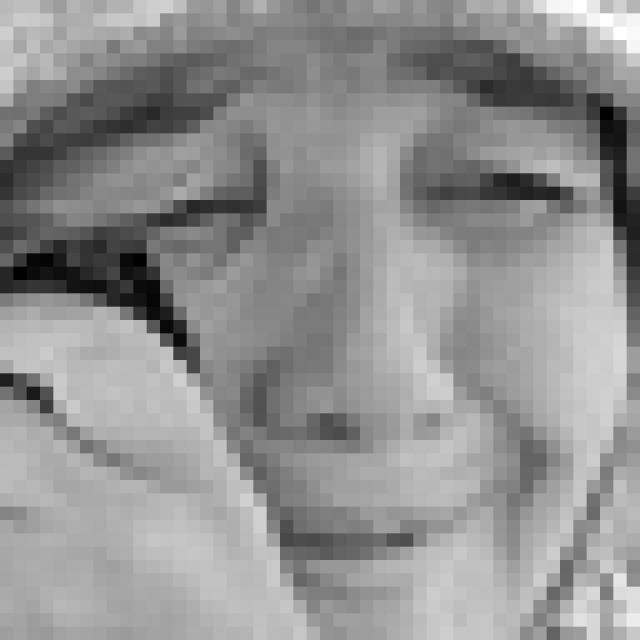sad: (95, 103, 592, 600)
